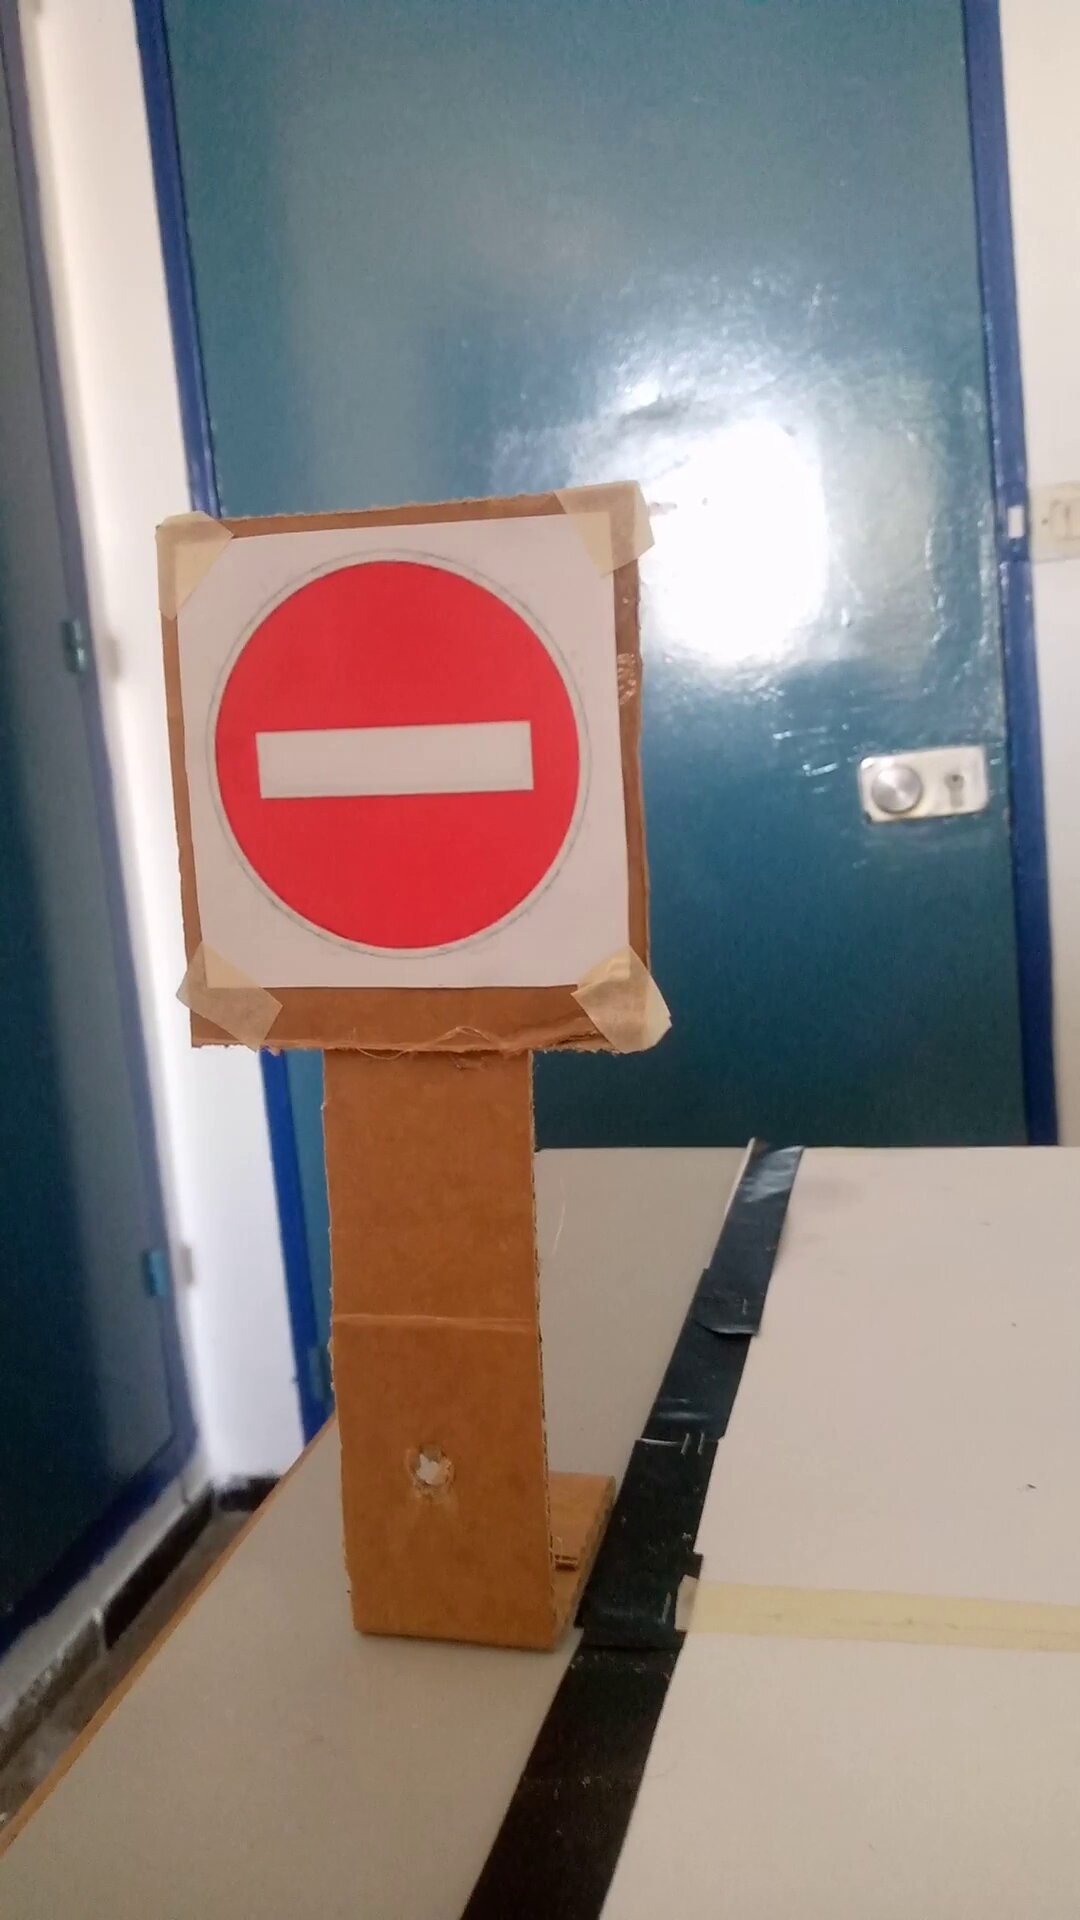panel010: (164, 534, 636, 997)
